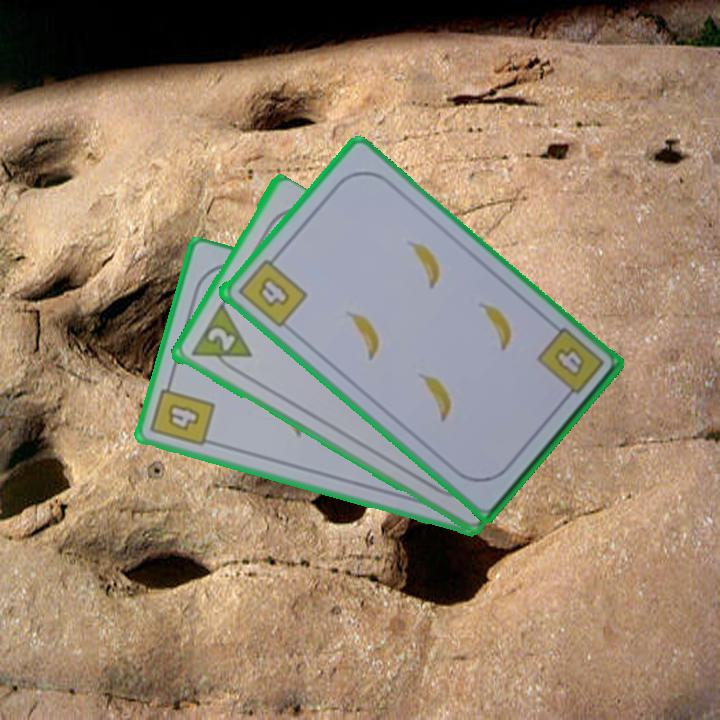2p: (203, 323, 238, 354)
4b: (233, 249, 310, 330), (147, 375, 218, 450), (549, 343, 588, 381)
